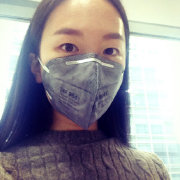face_mask: (40, 1, 124, 126)
